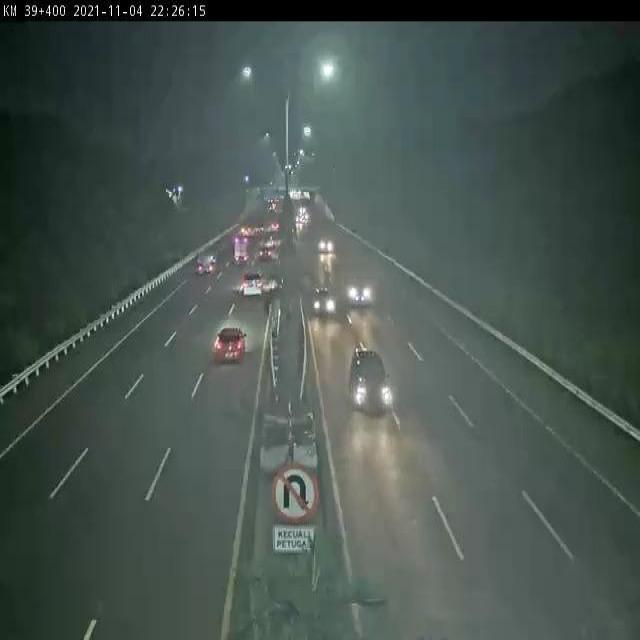car: (348, 349, 395, 419), (215, 322, 248, 362), (349, 283, 379, 309), (315, 284, 336, 320), (244, 273, 264, 295), (319, 234, 335, 254)
small truck: (234, 233, 249, 266), (200, 248, 216, 276)
